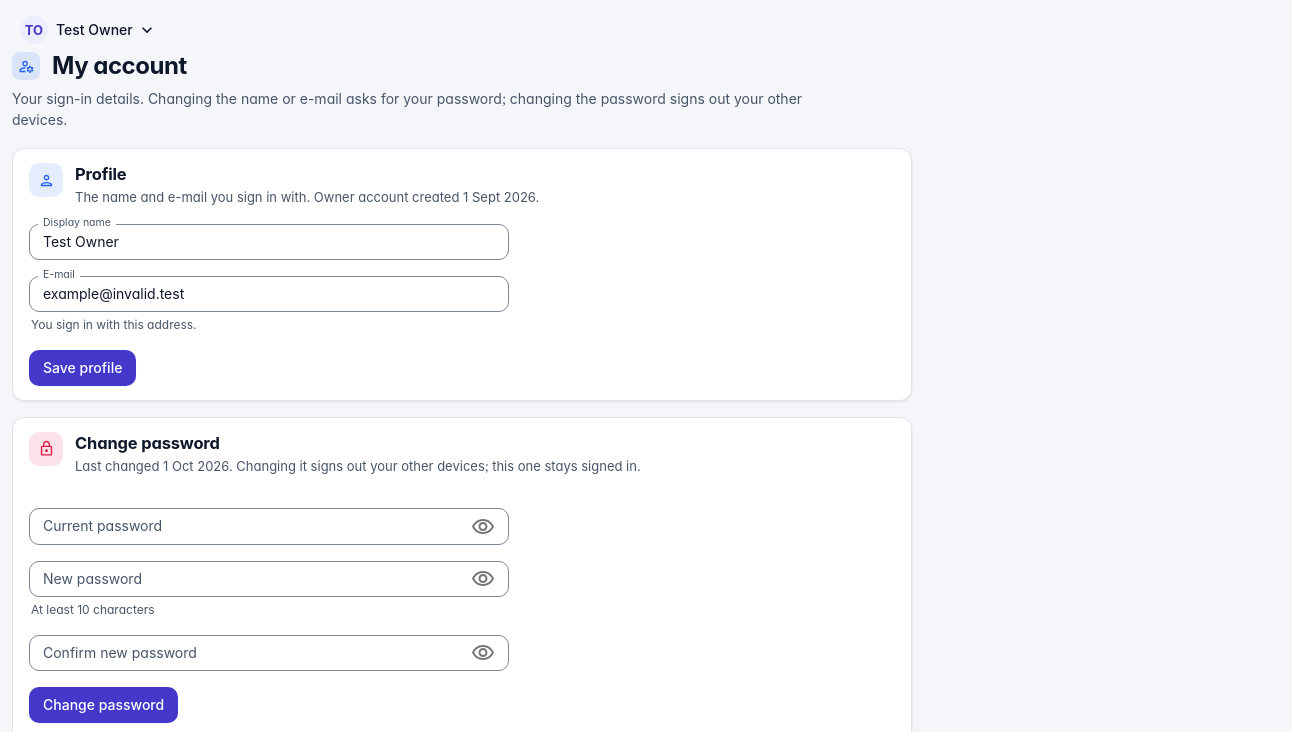
Test: My account: profile › does not ask again while the session is still elevated
Type "x" into the field labelled "Display name" at [269, 242], box [29, 224, 509, 260]
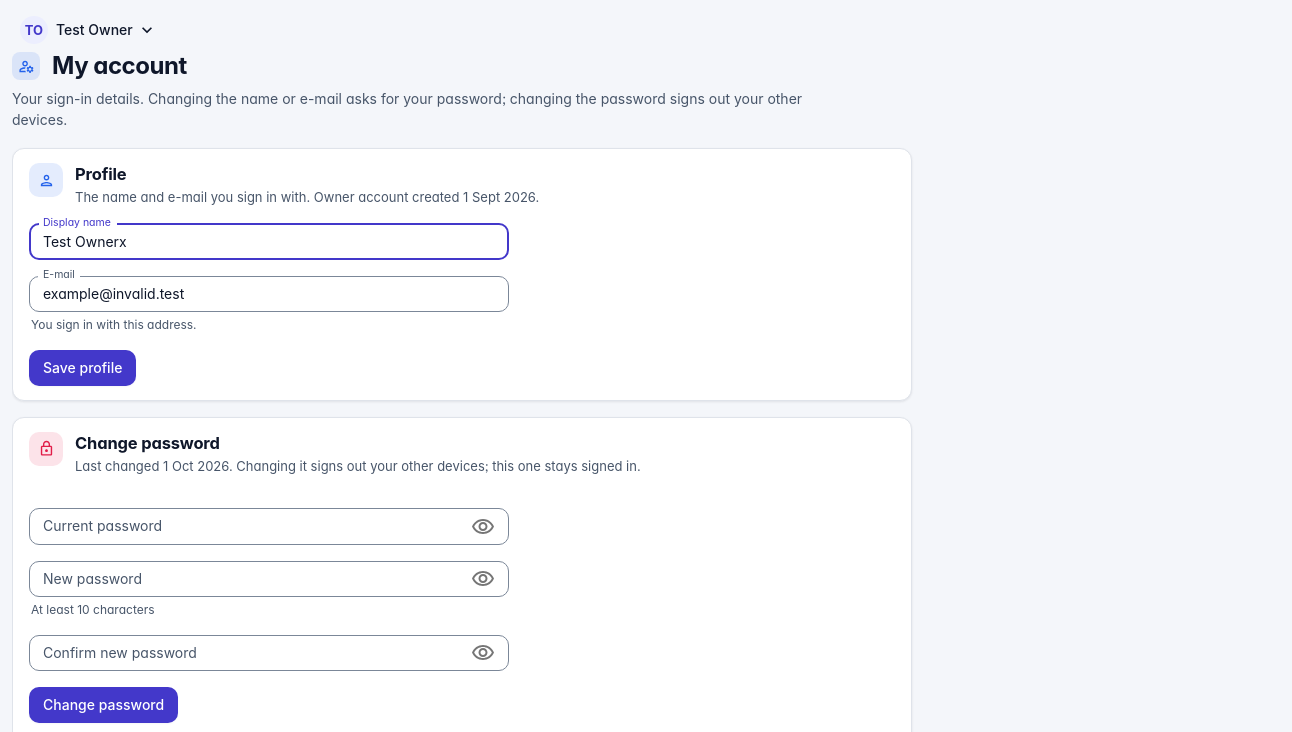
Click the button "Save profile" at [83, 368], box [29, 350, 136, 386]
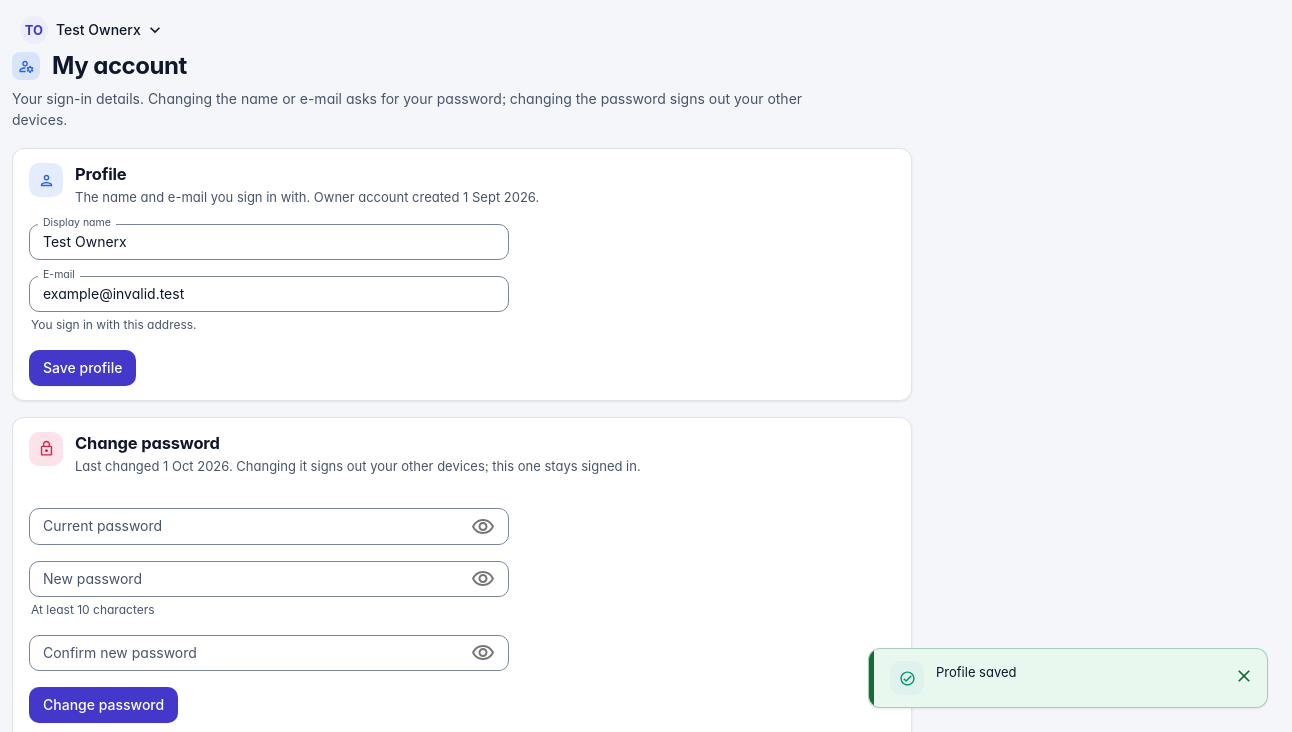
Check: the text "Profile saved" is shown, box [936, 664, 1016, 680]
